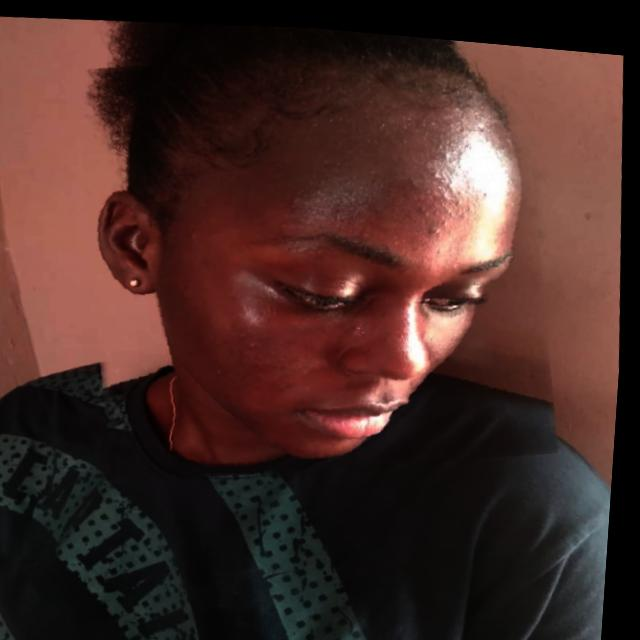sad: (62, 9, 576, 502)
